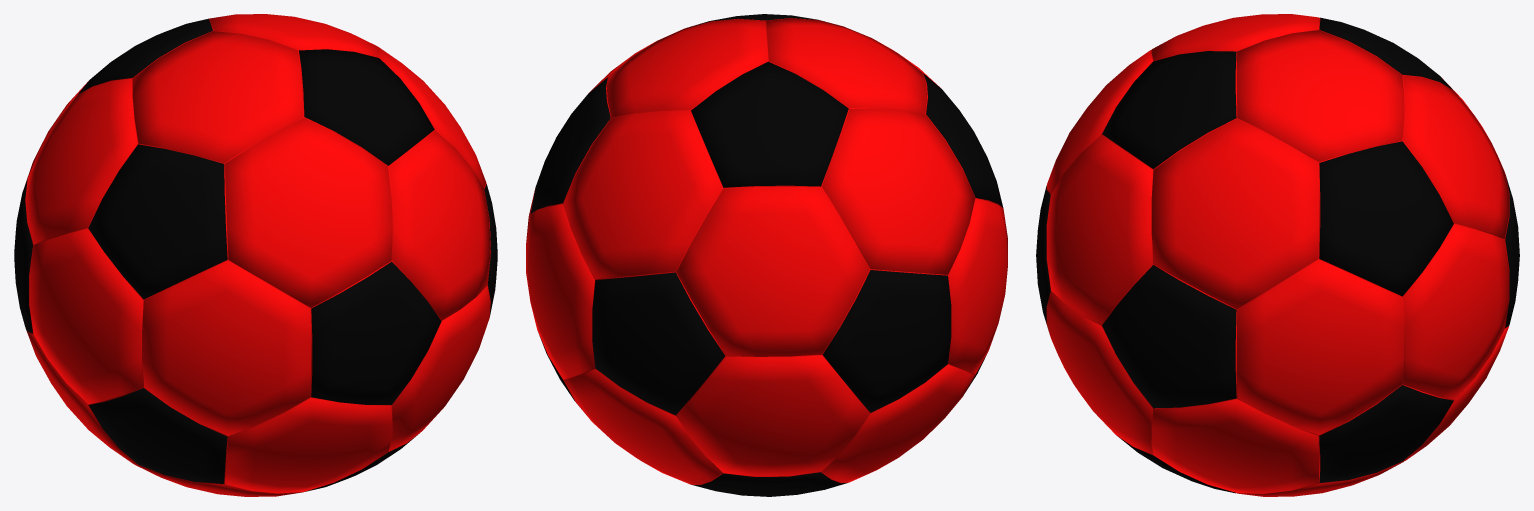
File: ball_red.glb
The picture shows the model from 3 angles, left to right: view 1: azimuth 30°, elevation 25°; view 2: azimuth 150°, elevation 25°; view 3: azimuth 270°, elevation 25°; orthographic projection.
Visible parts, largest first — view 1: Icosphere; view 2: Icosphere; view 3: Icosphere.
Part boxes in pixels (x1=…): Icosphere: x1=14, y1=14, x2=497, y2=496; Icosphere: x1=526, y1=14, x2=1007, y2=496; Icosphere: x1=1036, y1=14, x2=1519, y2=496.
Size of the model in its own units: 0.0864 by 0.0863 by 0.0865.
